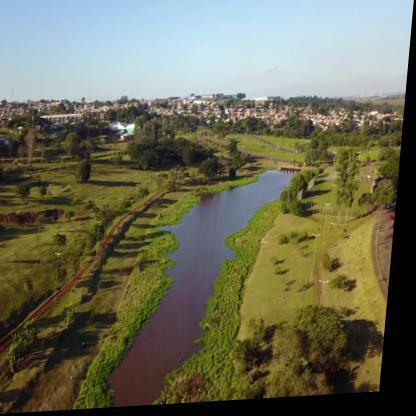agua: (172, 215, 218, 365), (140, 318, 173, 395), (207, 194, 238, 258), (226, 185, 263, 231)
